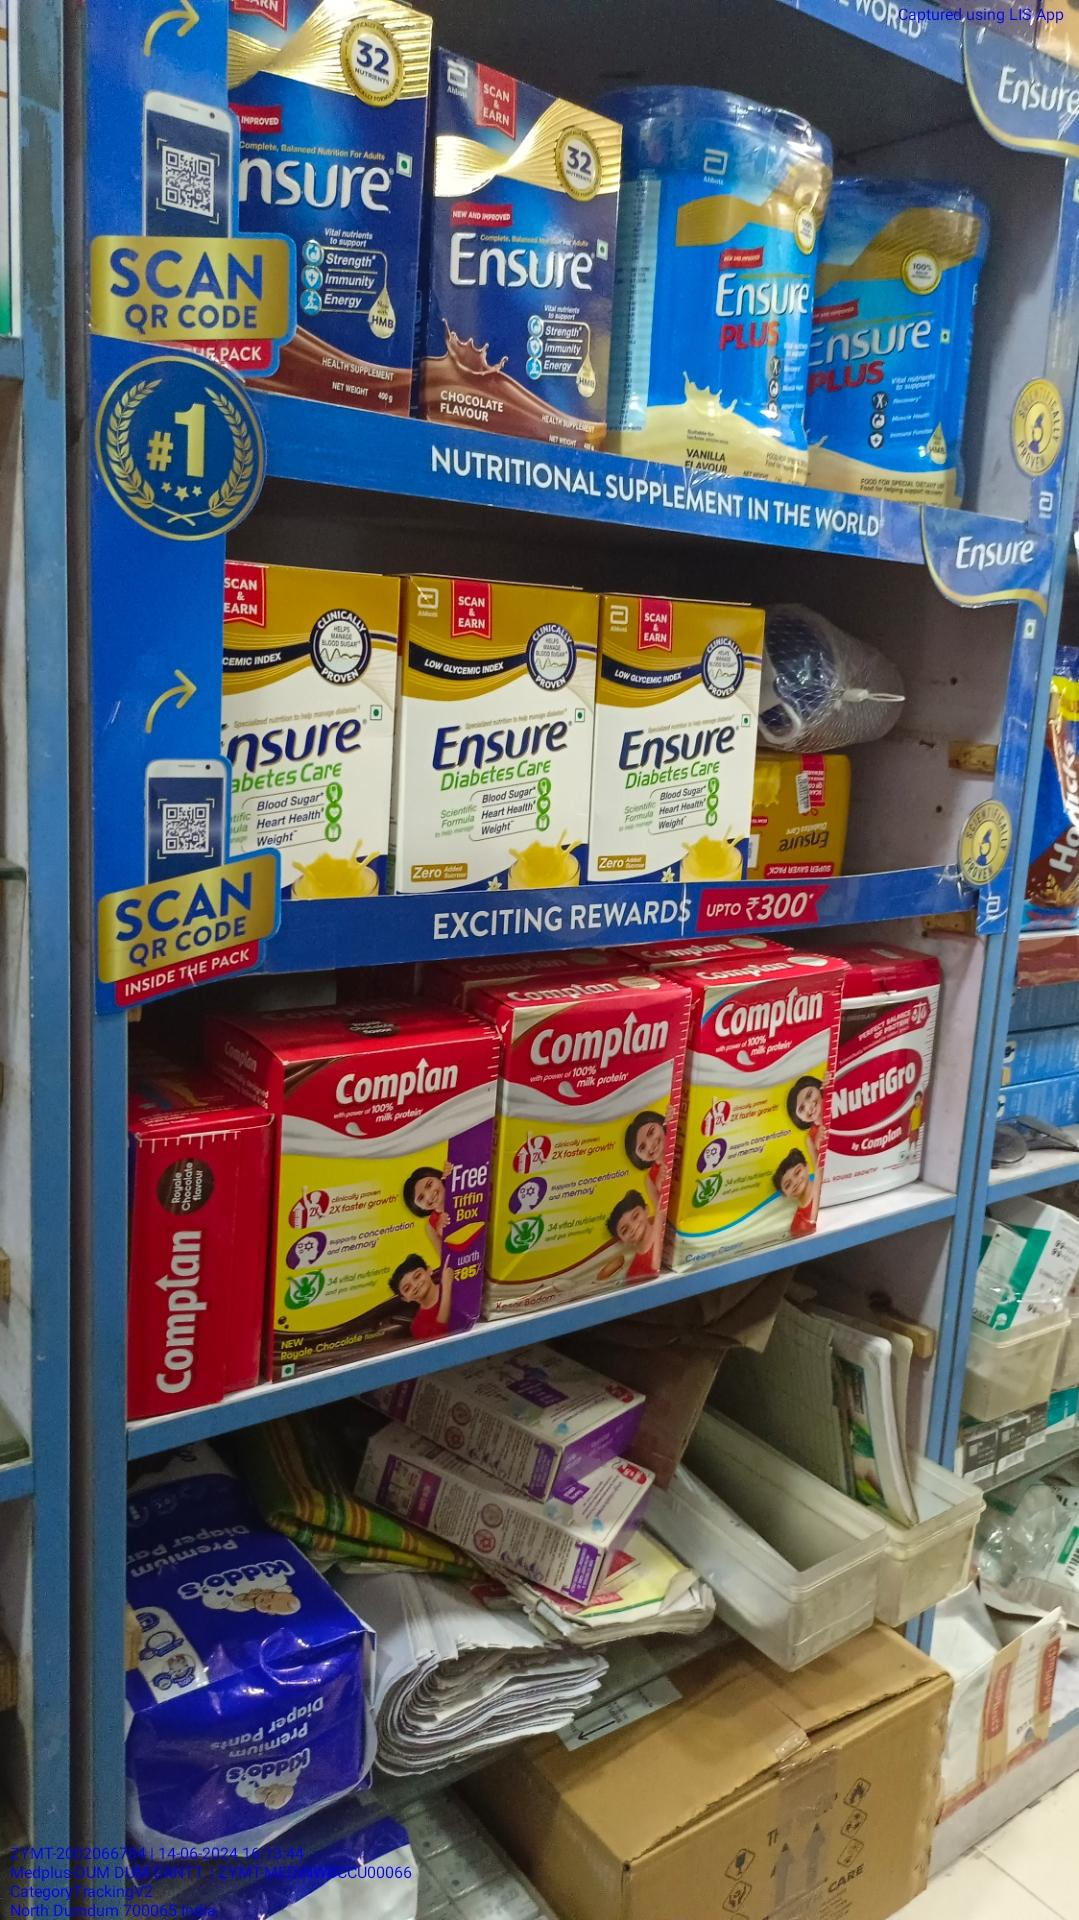COMPLAN_CHOCOLATE_500_GMS_PACK: (274, 1047, 495, 1379)
COMPLAN_CREAMY_CLASSIC_500_G_PACK: (693, 981, 818, 1263)
COMPLAN_KESAR_BADAM_500_GMS_PACK: (505, 1001, 685, 1288)
